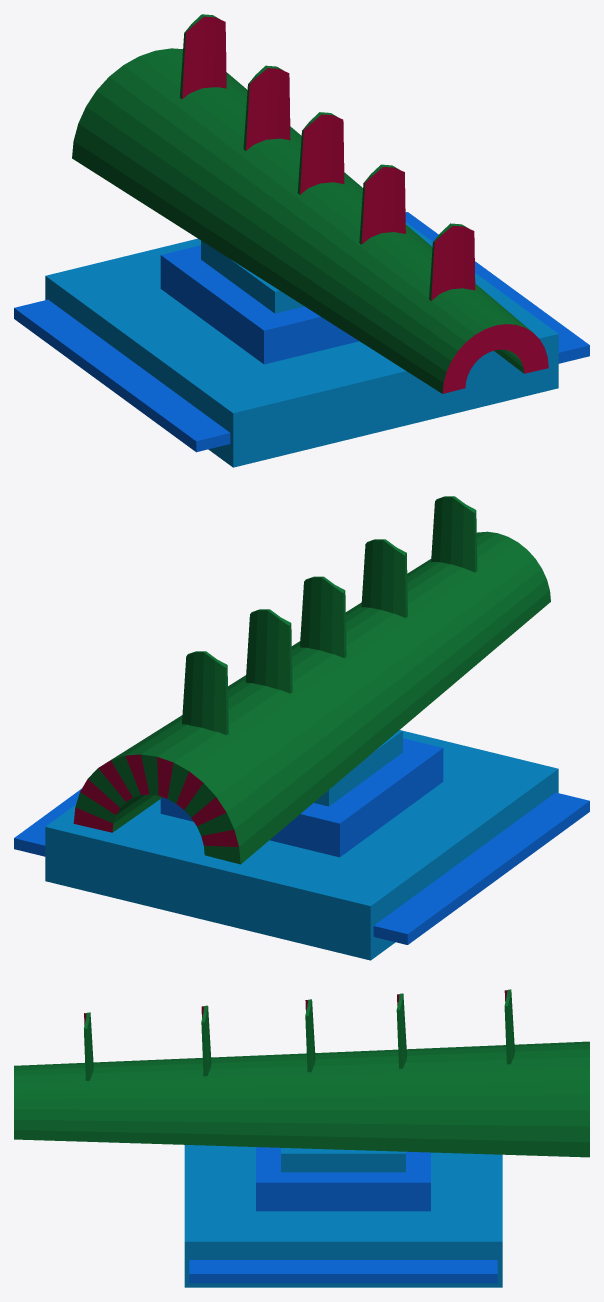
The model's file is Canon.fbx.
3 views of the same model, one above another, from view 1: azimuth 30°, elevation 25°; view 2: azimuth 150°, elevation 25°; view 3: azimuth 270°, elevation 25° (orthographic). The views are drawn at different scales.
Visible parts, largest first — view 1: Canon barrel, Cube.021; view 2: Canon barrel, Cube.021; view 3: Canon barrel, Cube.021.
Part boxes in pixels (left/top/right/bottom): Canon barrel: left=72, top=14, right=548, bottom=393; Cube.021: left=14, top=212, right=589, bottom=467; Canon barrel: left=73, top=496, right=550, bottom=864; Cube.021: left=14, top=730, right=589, bottom=960; Canon barrel: left=14, top=989, right=589, bottom=1157; Cube.021: left=184, top=1145, right=502, bottom=1287.
Bounding box in the file's own units: 235 × 156 × 353.
